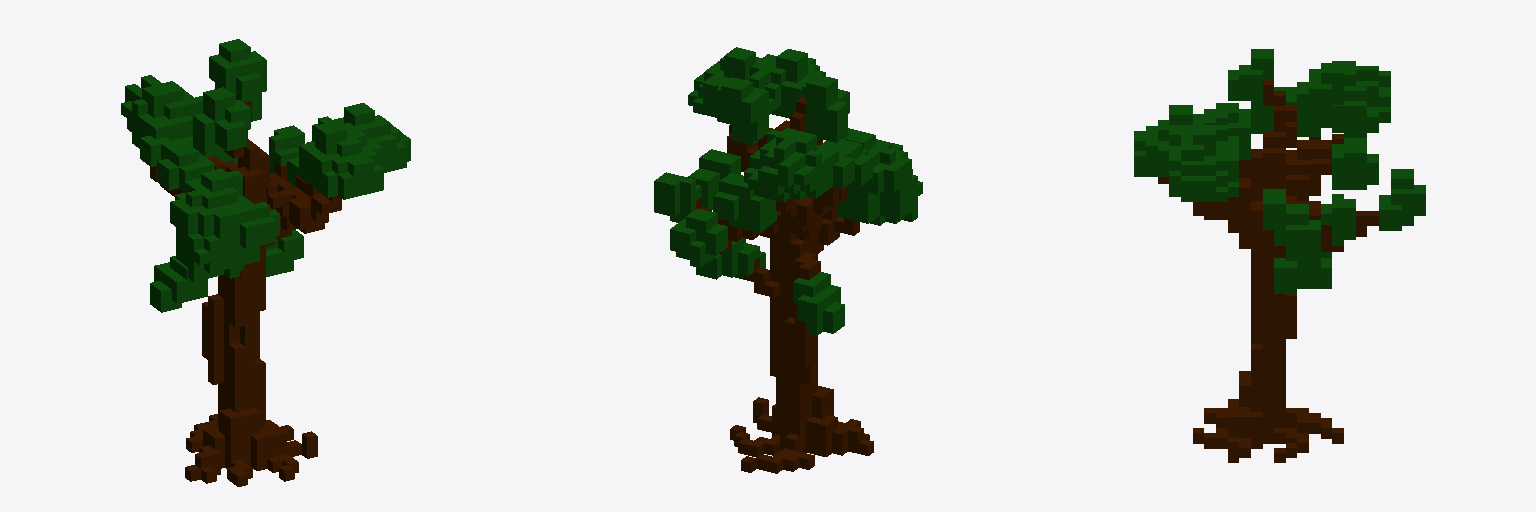
3 renders of one model, left to right at view 1: azimuth 30°, elevation 25°; view 2: azimuth 150°, elevation 25°; view 3: azimuth 270°, elevation 25°, orthographic.
Parts seen in each view (by area): view 1: Oak; view 2: Oak; view 3: Oak.
Part boxes in pixels (x1,y1,x2,y2): Oak: (121,39,410,486); Oak: (654,47,922,473); Oak: (1134,49,1425,462).
Bounding box in the file's own units: 21 × 36 × 25.
Materials: 1 (1 with a texture image).